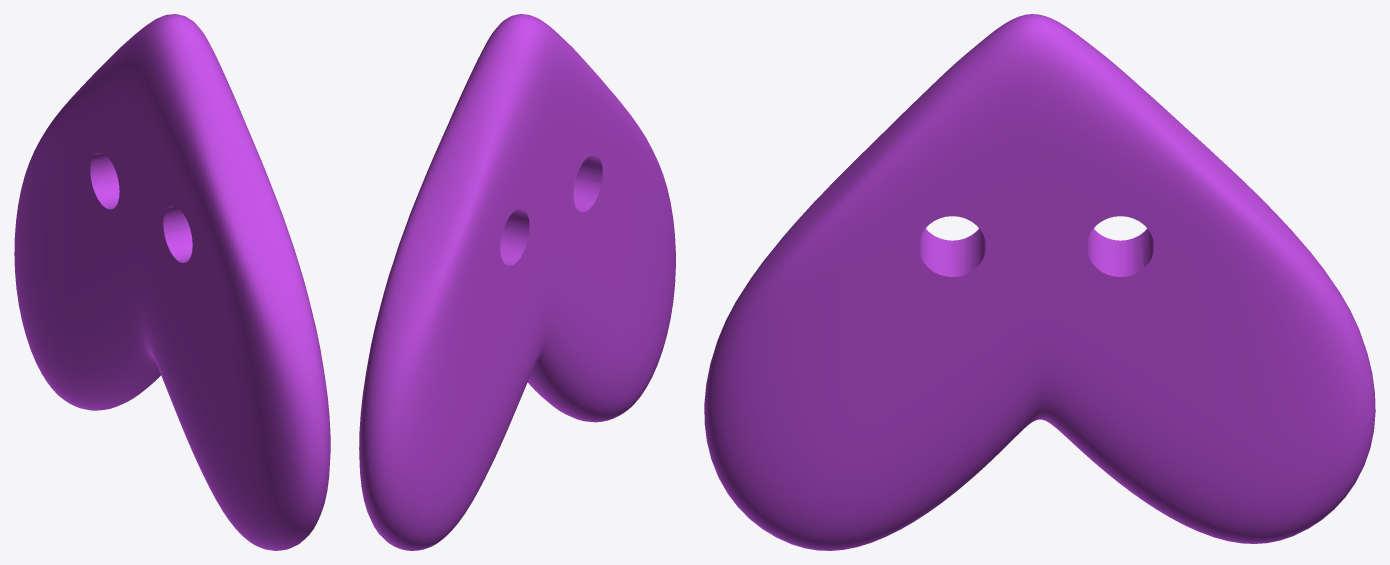
Rendered from ghost.fbx.
The picture shows the model from 3 angles, left to right: view 1: azimuth 30°, elevation 25°; view 2: azimuth 150°, elevation 25°; view 3: azimuth 270°, elevation 25°; orthographic projection. The views are drawn at different scales.
Visible parts, largest first — view 1: Ghost; view 2: Ghost; view 3: Ghost.
Boxes of the visible parts, box(x1,y1,x2,y2) form: Ghost: box(14, 14, 330, 550); Ghost: box(359, 14, 675, 550); Ghost: box(704, 14, 1375, 550).
Bounding box in the file's own units: 12.74 × 86.65 × 99.09.
